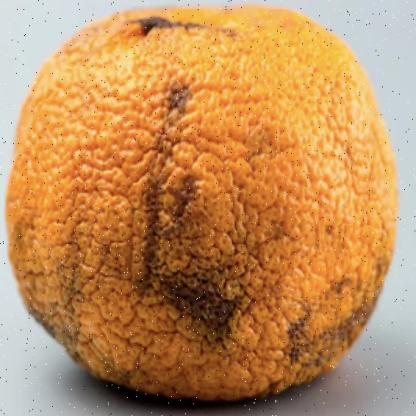rotten: (9, 9, 398, 396)
